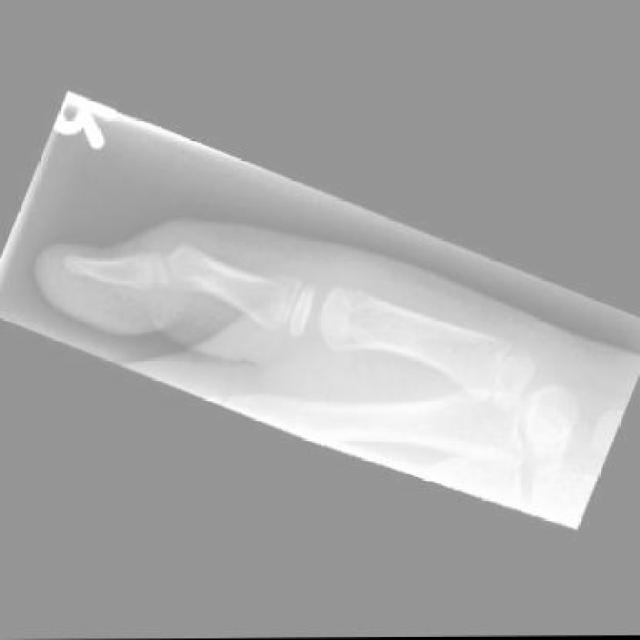Fracture: (268, 268, 299, 298)
